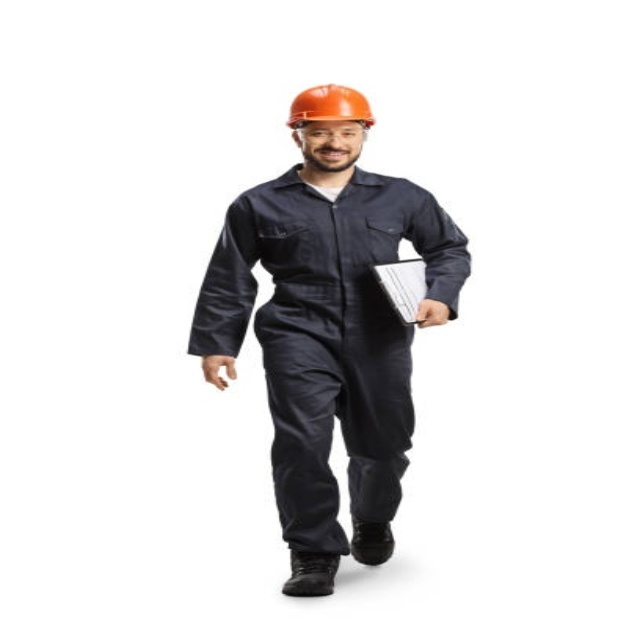Gafas: (298, 127, 367, 141)
Sin_guantes: (199, 353, 245, 392), (414, 297, 455, 330)
Sin_mascara: (314, 146, 353, 166)
